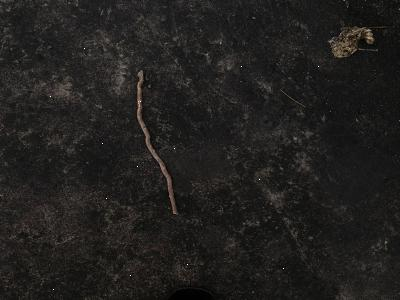Root: (137, 71, 178, 214)
